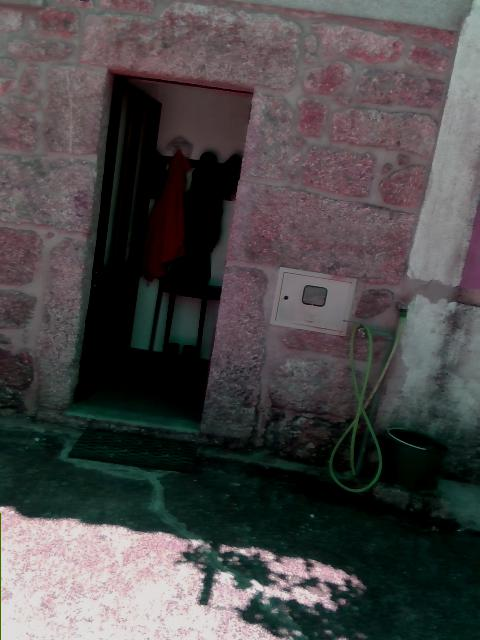open_door: (69, 72, 254, 432)
